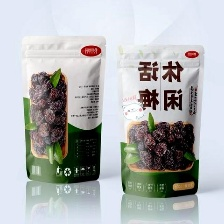snack: (113, 38, 209, 202), (17, 28, 112, 189)
